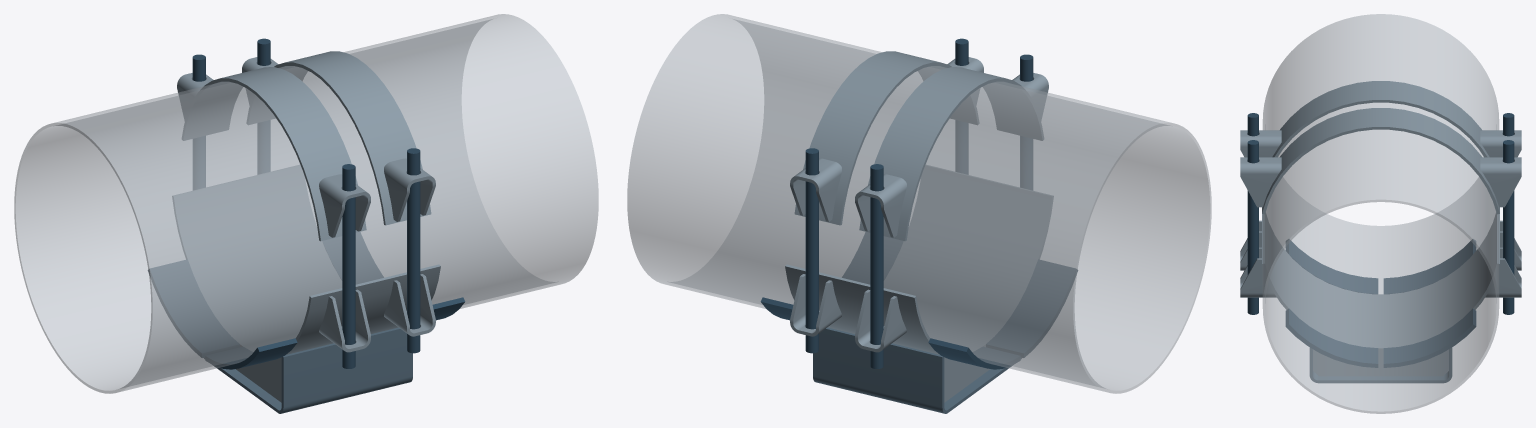
The model's file is TS-671.00.00-09-opora-dn630-H100.glb.
3 renders of one model, left to right at view 1: azimuth 30°, elevation 25°; view 2: azimuth 150°, elevation 25°; view 3: azimuth 270°, elevation 25°, orthographic. The views are drawn at different scales.
Parts seen in each view (by area): view 1: truba, podushka_0, bugel_podushka_-1_0, skoba_1, bugel_podushka_1_0, upor_-1_1, shpilka_1_-1, shpilka_-1_-1, bugel_ushko_-1_2, bugel_ushko_1_2, ushko_8, ushko_6 (+6 smaller); view 2: truba, podushka_0, bugel_podushka_-1_0, skoba_1, bugel_podushka_1_0, upor_-1_-1, shpilka_1_1, shpilka_-1_1, bugel_ushko_-1_1, bugel_ushko_1_1, ushko_7, ushko_5 (+6 smaller); view 3: truba, podushka_0, bugel_podushka_1_0, bugel_podushka_-1_0, rebro_4, upor_1_1, upor_1_-1, upor_-1_1, upor_-1_-1, bugel_ushko_1_1, bugel_ushko_1_2, skoba_1 (+10 smaller).
Part boxes in pixels (x1,y1,x2,y2): truba: [14, 14, 598, 393]; podushka_0: [172, 165, 440, 354]; bugel_podushka_-1_0: [182, 67, 366, 241]; skoba_1: [204, 327, 412, 413]; bugel_podushka_1_0: [247, 51, 431, 225]; upor_-1_1: [148, 259, 239, 357]; shpilka_1_-1: [407, 148, 420, 353]; shpilka_-1_-1: [342, 164, 355, 368]; bugel_ushko_-1_2: [319, 174, 370, 237]; bugel_ushko_1_2: [384, 158, 435, 221]; ushko_8: [319, 289, 370, 352]; ushko_6: [384, 274, 435, 336]; truba: [627, 14, 1211, 393]; podushka_0: [785, 165, 1053, 354]; bugel_podushka_-1_0: [859, 67, 1043, 241]; skoba_1: [813, 327, 1021, 413]; bugel_podushka_1_0: [794, 51, 978, 225]; upor_-1_-1: [986, 259, 1077, 357]; shpilka_1_1: [805, 148, 818, 353]; shpilka_-1_1: [870, 164, 883, 368]; bugel_ushko_-1_1: [855, 174, 906, 237]; bugel_ushko_1_1: [790, 158, 841, 221]; ushko_7: [855, 289, 906, 352]; ushko_5: [790, 274, 841, 336]; truba: [1262, 14, 1499, 413]; podushka_0: [1262, 213, 1499, 350]; bugel_podushka_1_0: [1262, 108, 1499, 214]; bugel_podushka_-1_0: [1272, 81, 1489, 157]; rebro_4: [1313, 349, 1448, 376]; upor_1_1: [1383, 308, 1476, 367]; upor_1_-1: [1285, 308, 1378, 367]; upor_-1_1: [1383, 239, 1476, 294]; upor_-1_-1: [1285, 239, 1378, 294]; bugel_ushko_1_1: [1480, 157, 1521, 207]; bugel_ushko_1_2: [1240, 157, 1281, 207]; skoba_1: [1309, 348, 1452, 383].
Size of the model in its own units: 1170 by 741 by 750.
